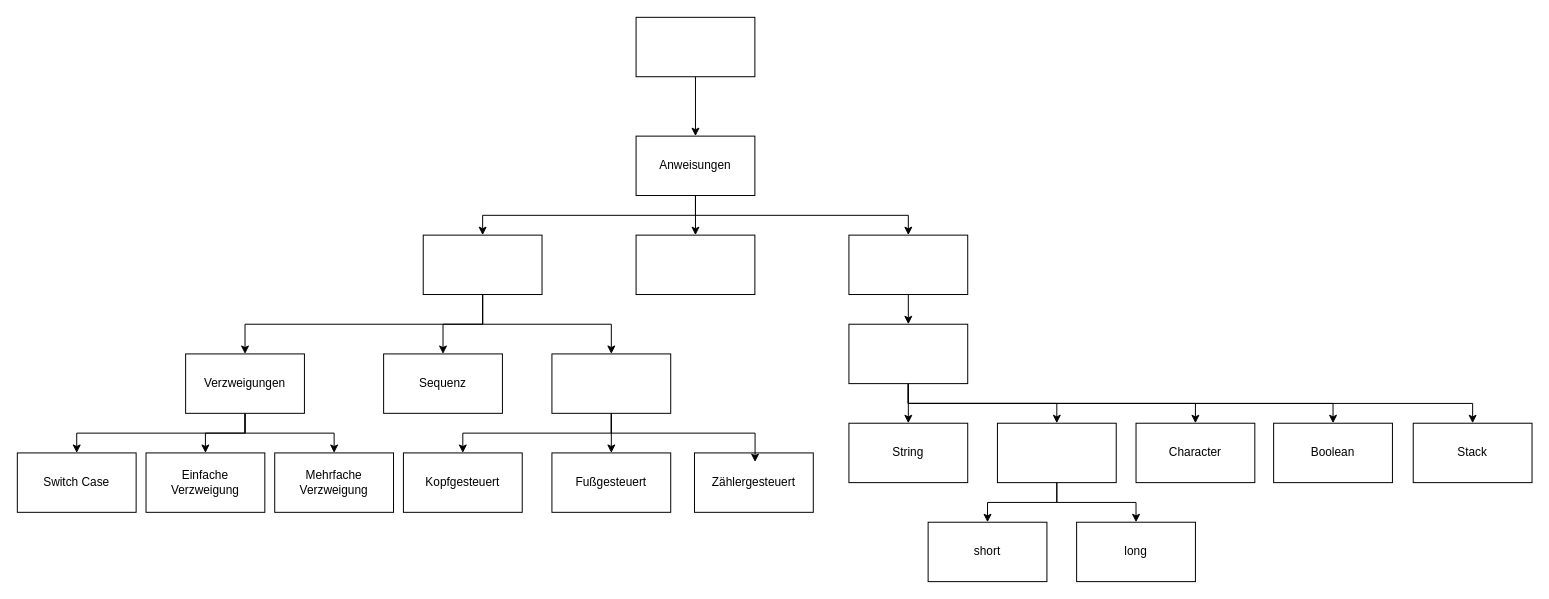
Image size: 1549x599. Some labels were removed from this diagram. Here are the shapes that lost their labels. From the top down, the centre of each, then its label:
point (695, 46): C++
point (482, 264): Kontrollstrukturen
point (695, 264): Funktionen
point (908, 264): Variablen
point (908, 353): Datentypen
point (611, 383): Wiederholungen
point (1056, 452): Integer
